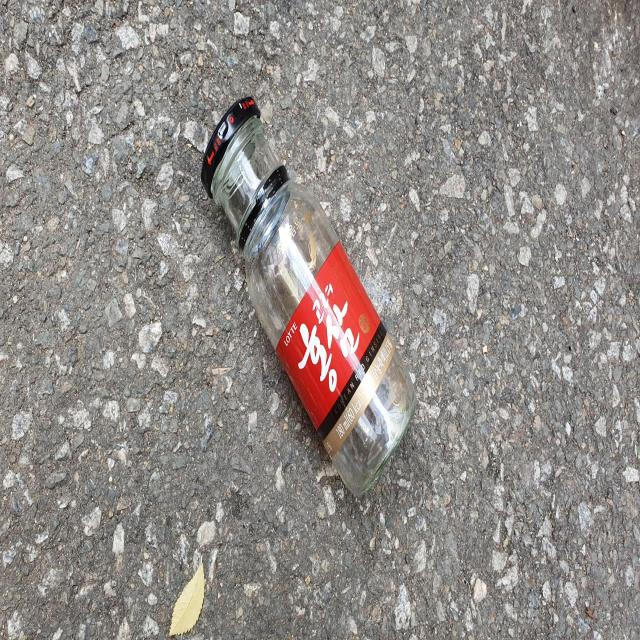glass: (202, 95, 416, 497)
